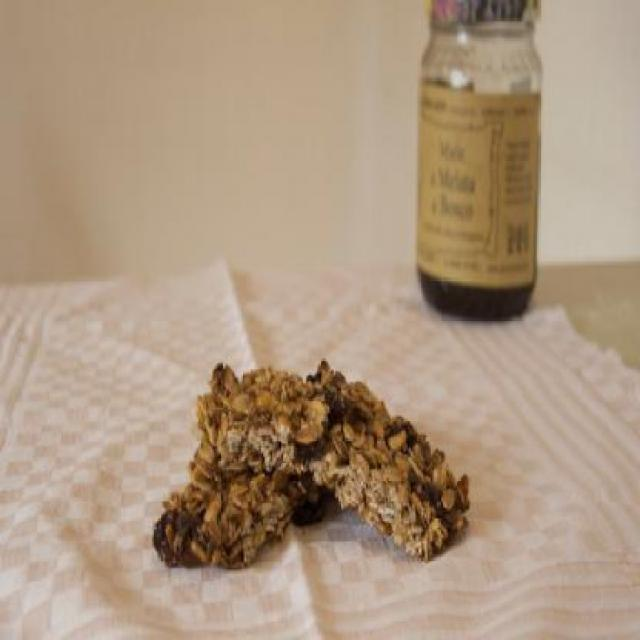Cereal bar packaged: (287, 352, 473, 566)
